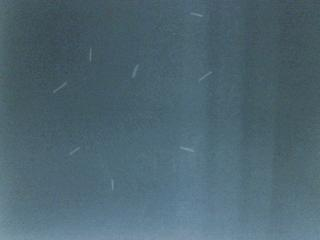scratch: (191, 65, 218, 89), (61, 141, 90, 162), (48, 76, 73, 100), (123, 60, 146, 84), (183, 5, 210, 25), (176, 141, 201, 159), (81, 43, 101, 65), (103, 173, 122, 194)
